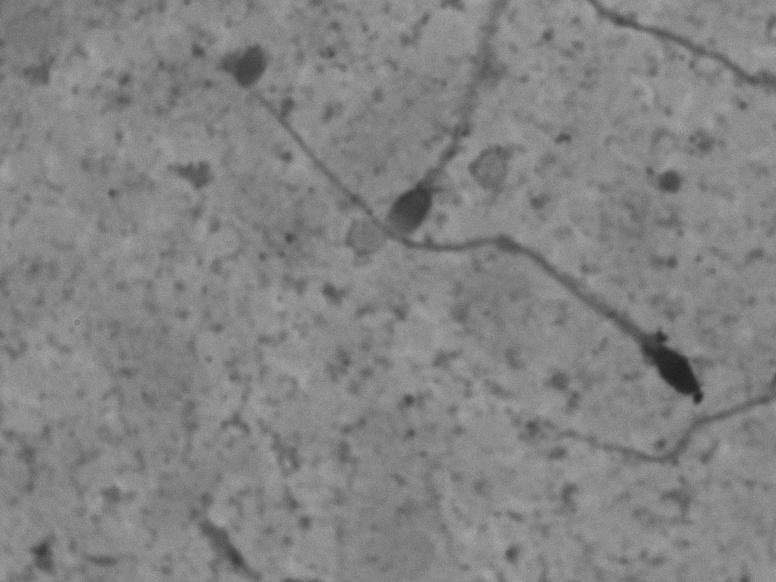Abnormal: (207, 59, 718, 416)
